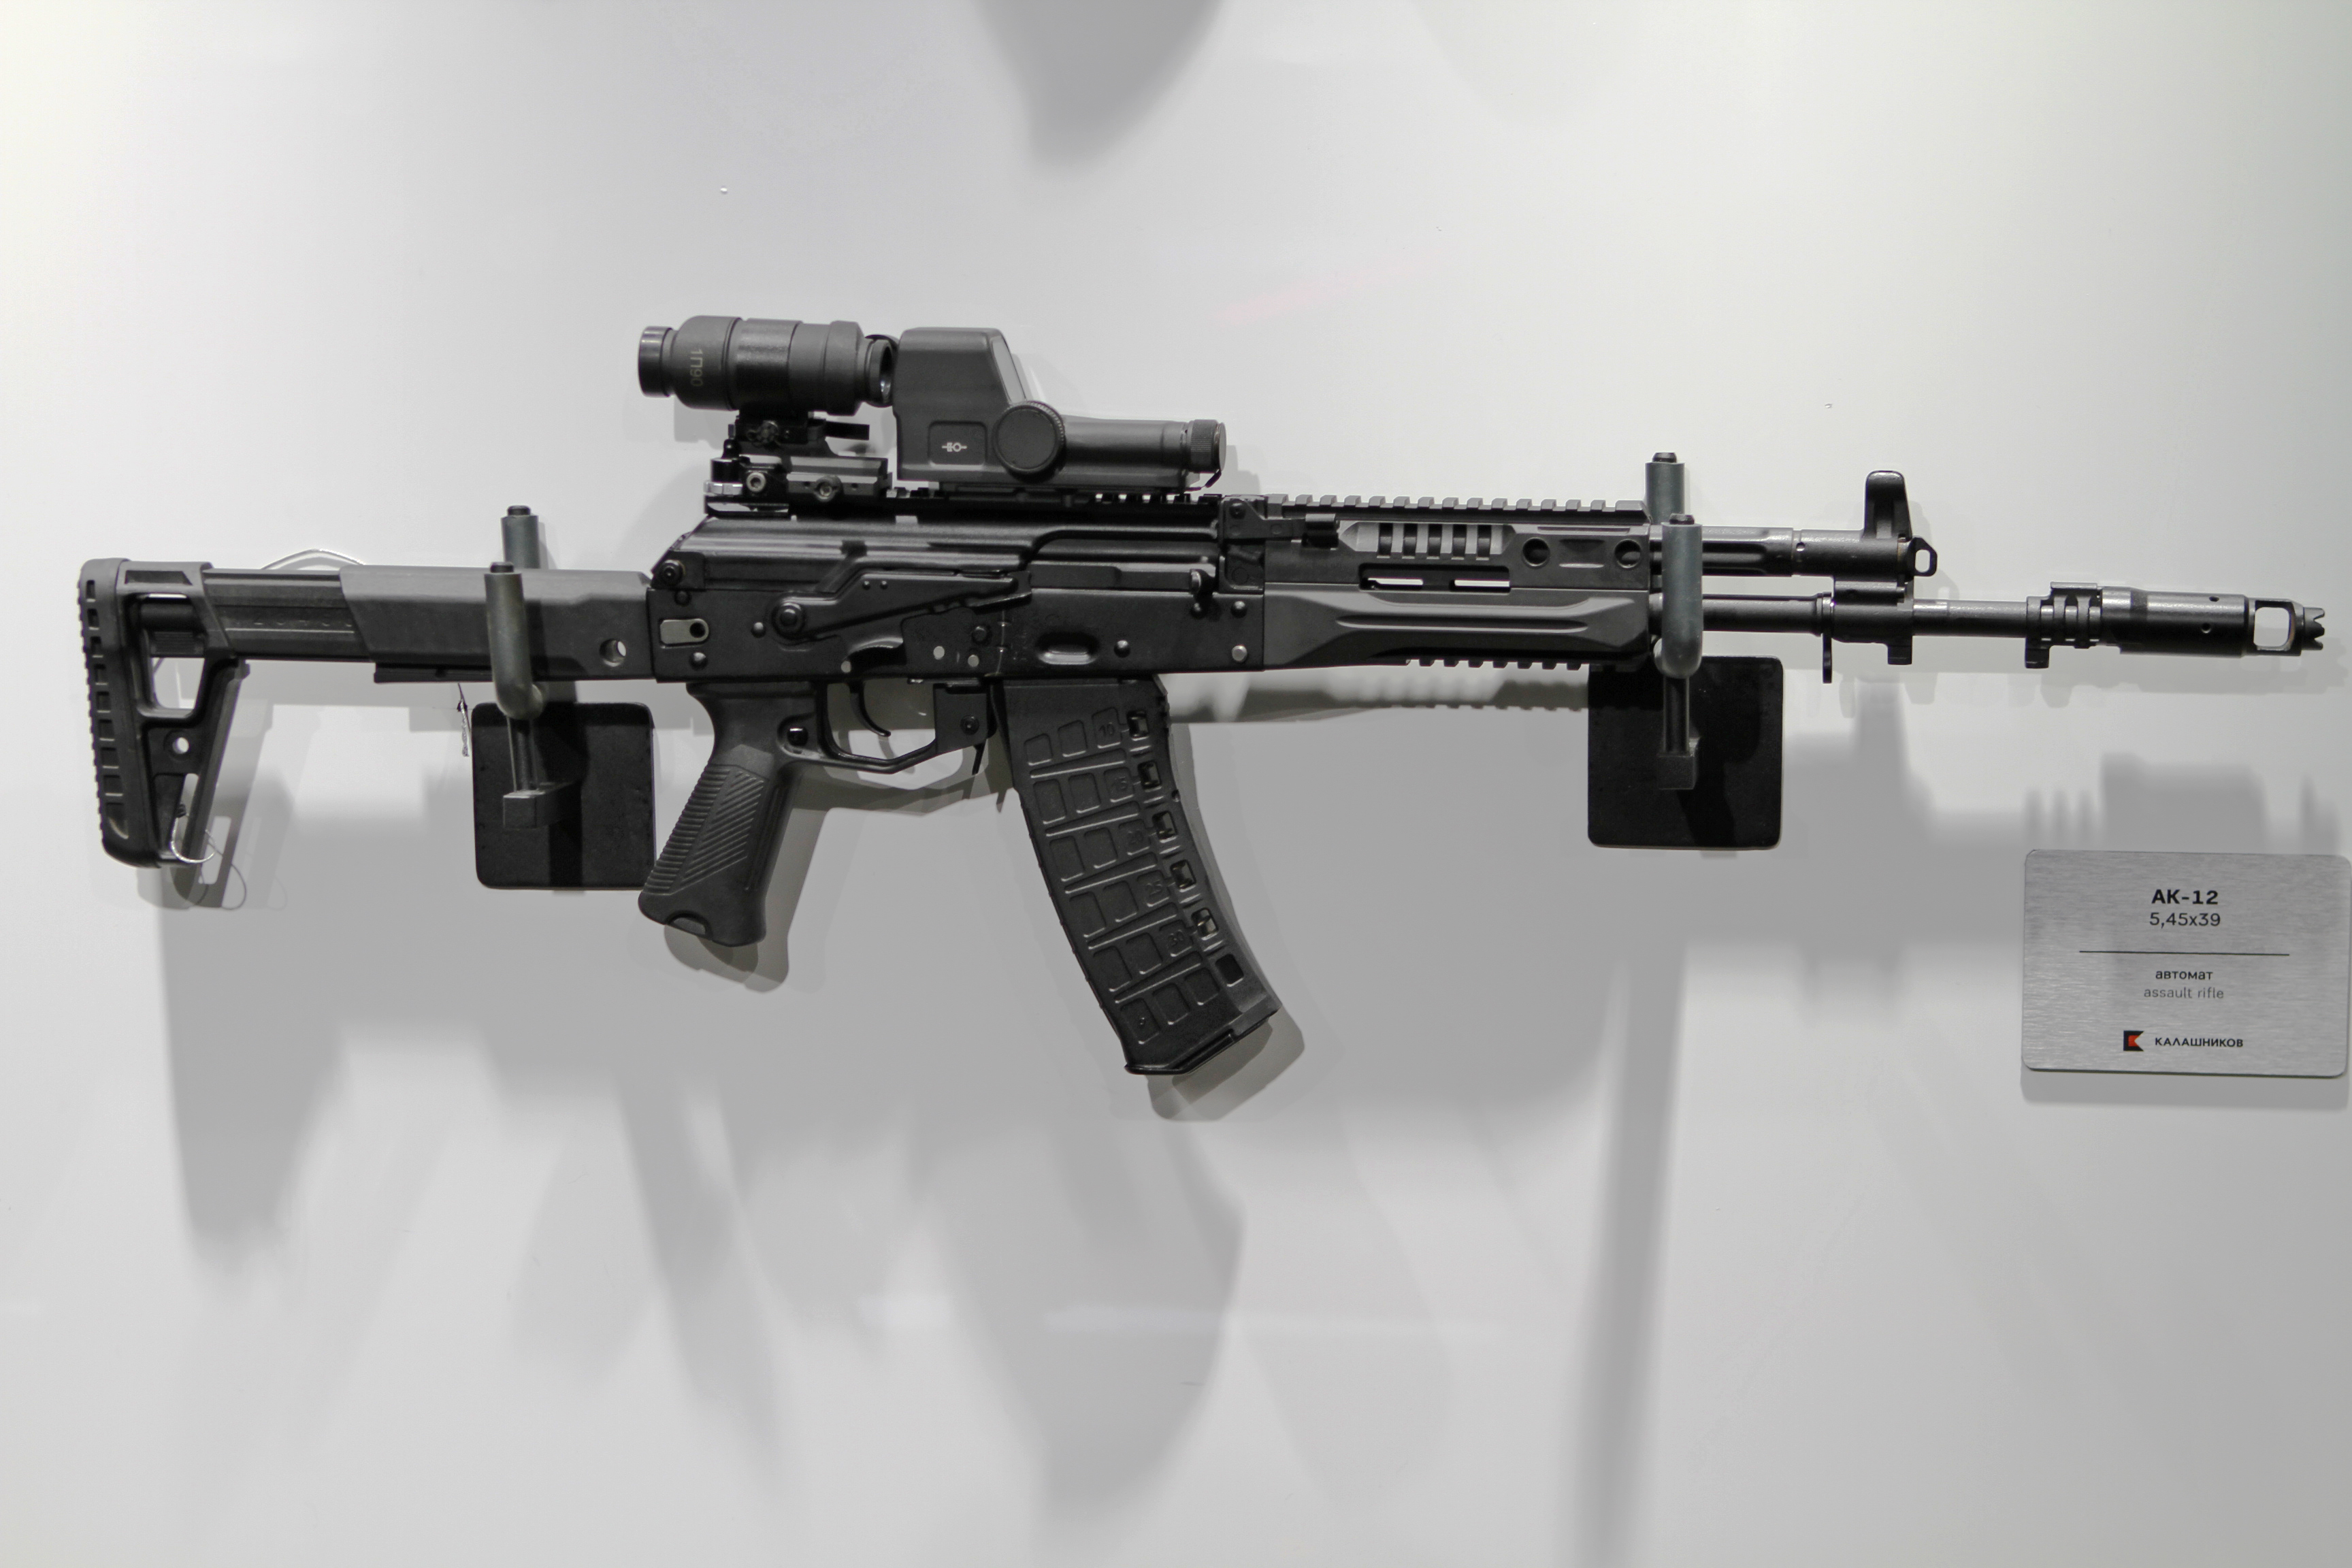Arma Real: (68, 304, 2352, 1094)
